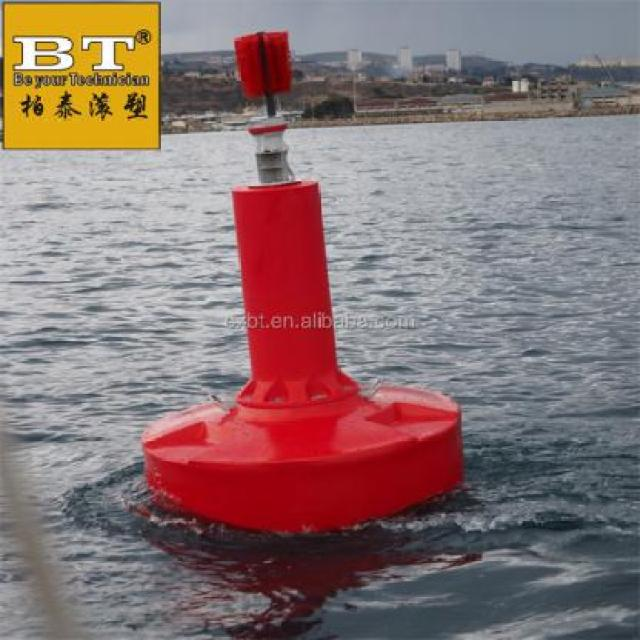a: (112, 23, 487, 537)
